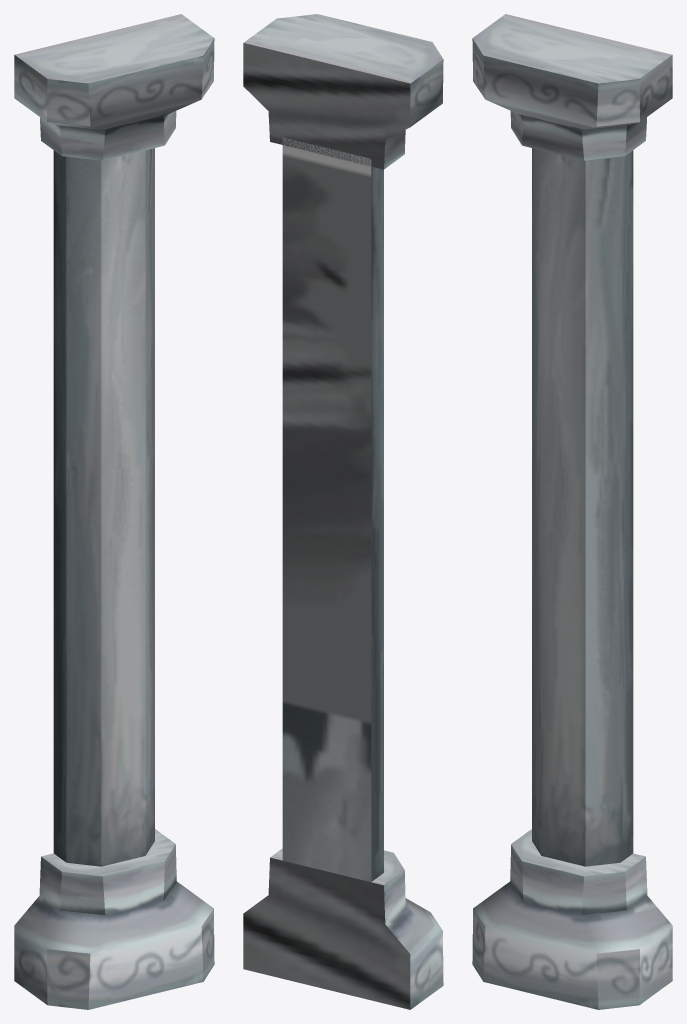
Rendered from e_throne_pillar.fbx.
3 renders of one model, left to right at view 1: azimuth 30°, elevation 25°; view 2: azimuth 150°, elevation 25°; view 3: azimuth 330°, elevation 25°, orthographic.
Parts seen in each view (by area): view 1: polySurface1521; view 2: polySurface1521; view 3: polySurface1521.
Boxes of the visible parts, x1,y1,x2,y2 form: polySurface1521: (14, 14, 214, 1009); polySurface1521: (243, 14, 443, 1009); polySurface1521: (472, 14, 672, 1009).
Size of the model in its own units: 0.9439 by 5 by 0.4706.
